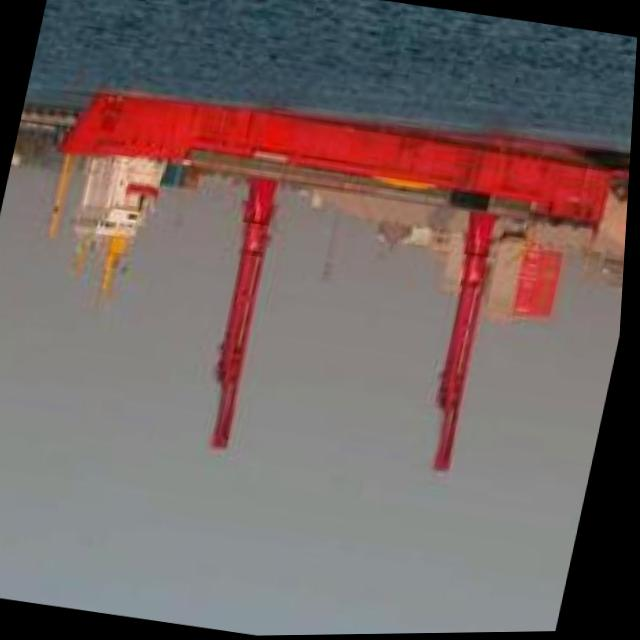ship2: (57, 91, 632, 477)
